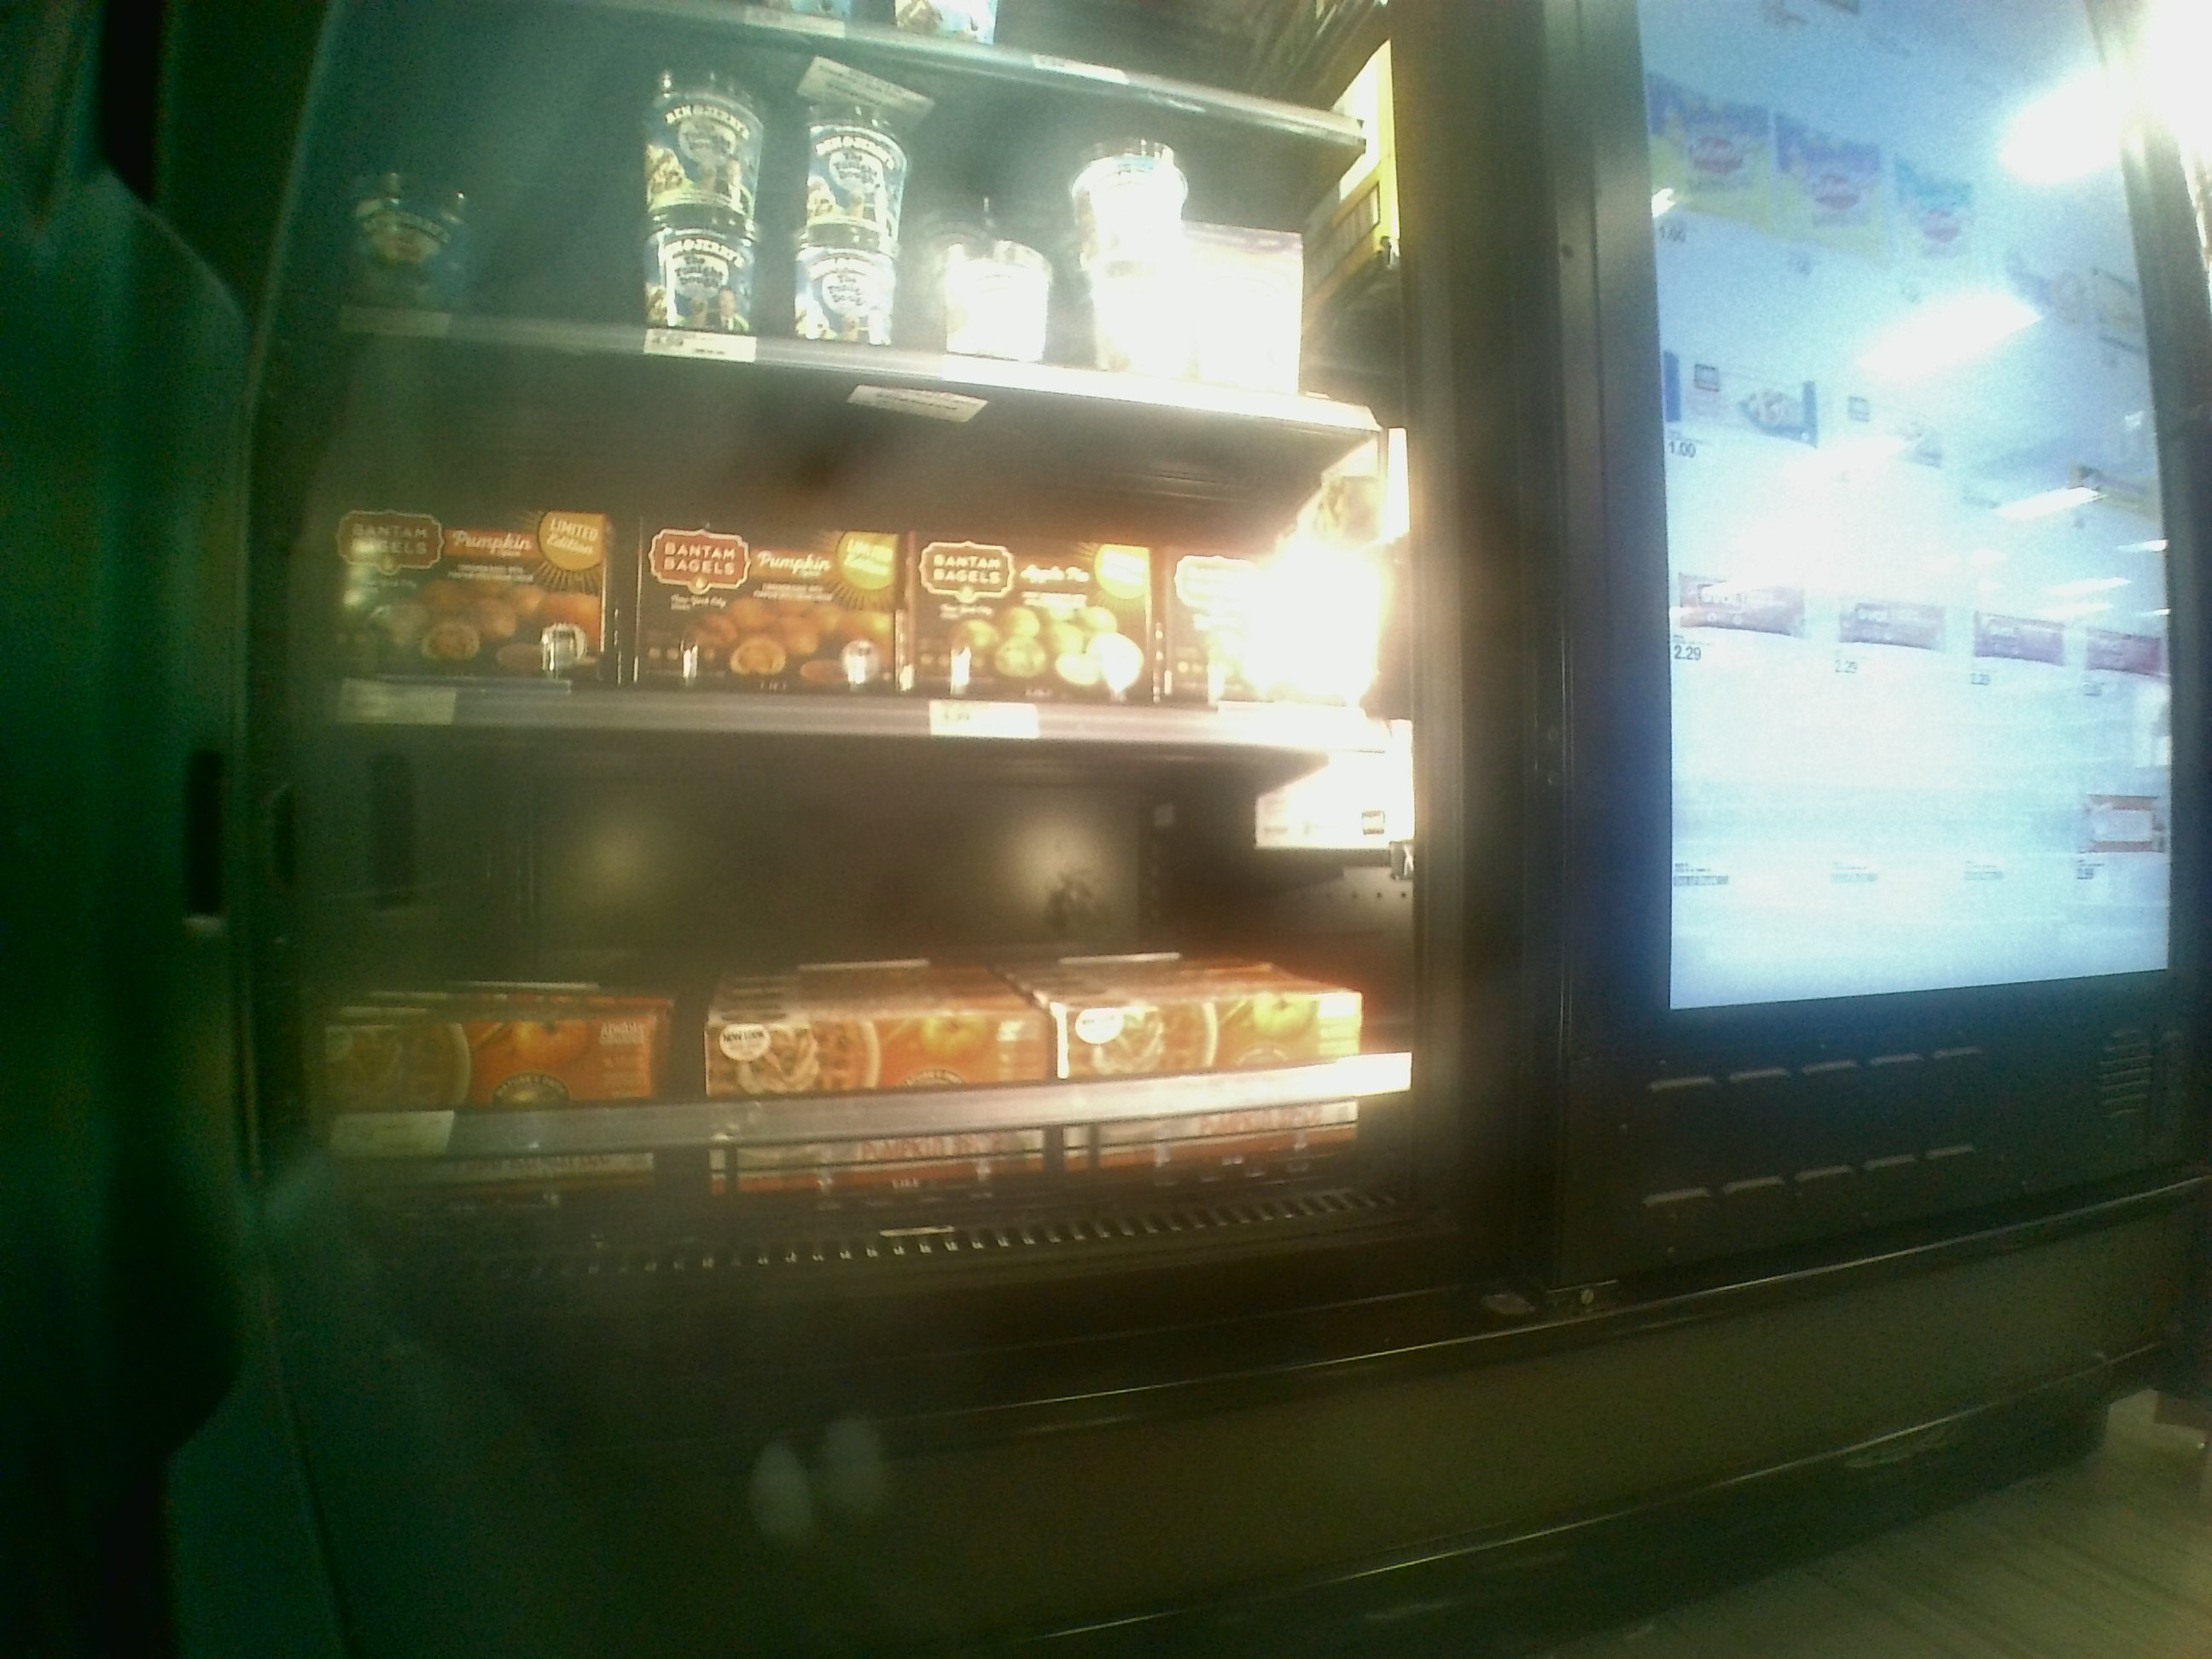shelf: (350, 704, 1451, 1288)
